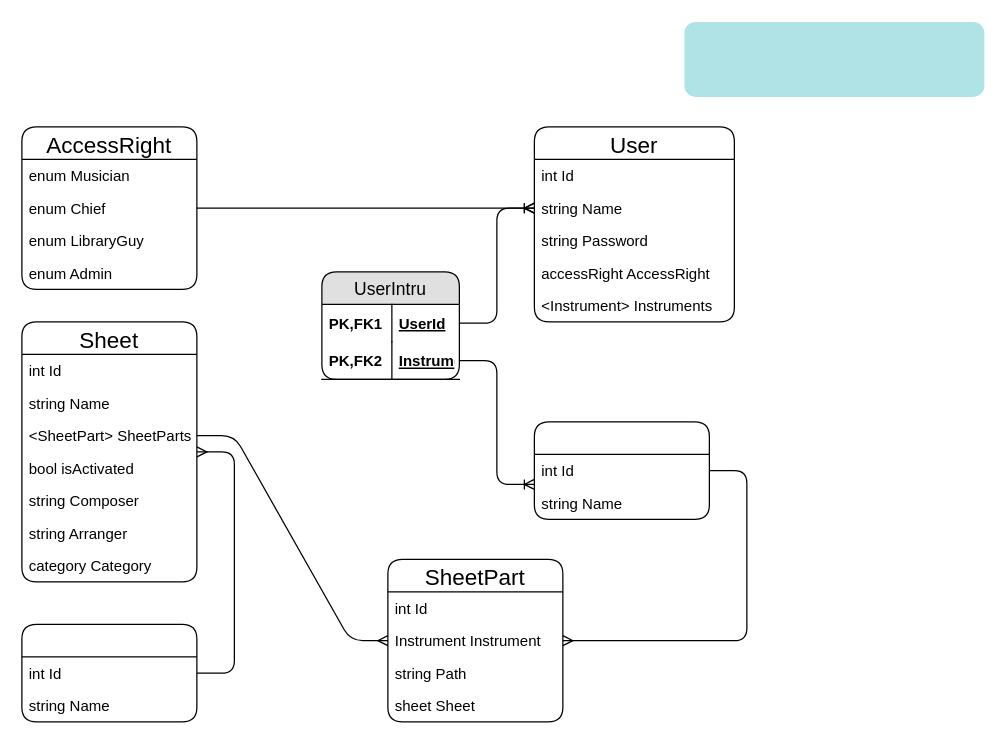
This 1006x746 diagram has some shape labels left out. The shapes that lost their labels are listed below. From the top down, each one's box as (x1, y1, x2, y2) in pixels, then its label:
(684, 21, 984, 96): Class Diagram
(533, 421, 709, 519): Instrument
(21, 623, 197, 722): Category
